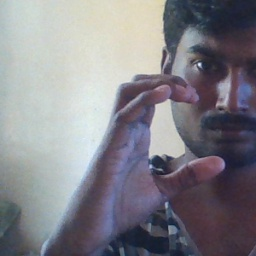C: (99, 73, 227, 210)
